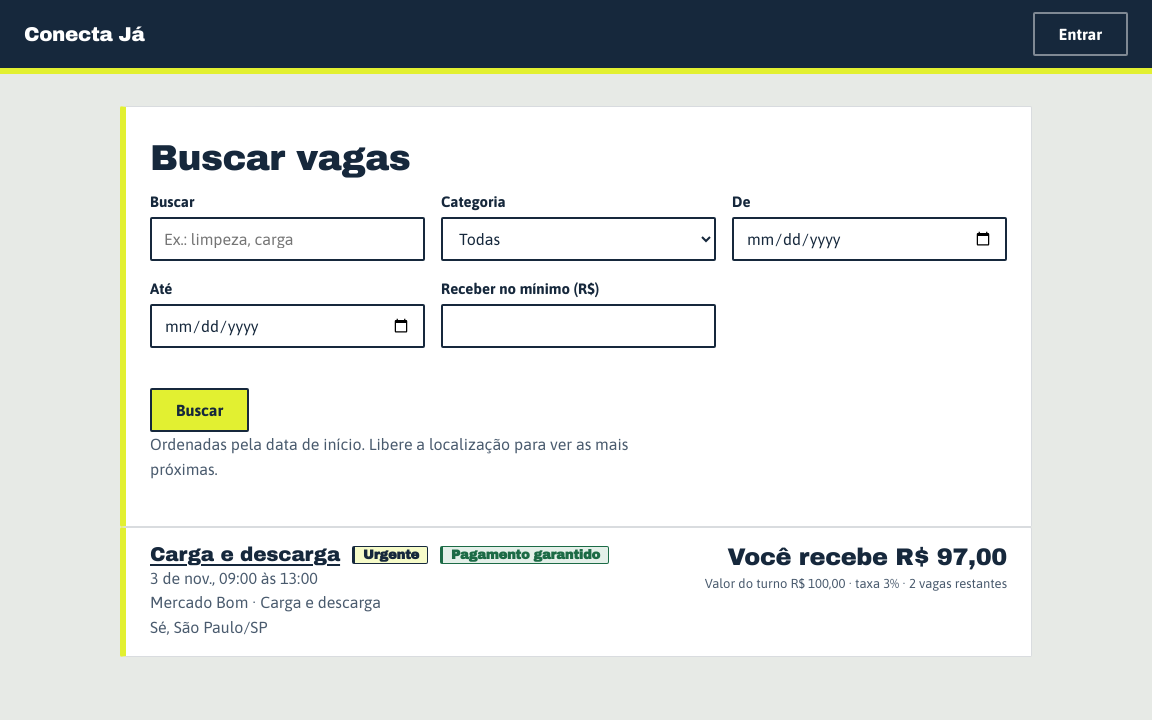
Test case: Buscar vagas (US12) › combina busca e filtros na consulta e limpa com um clique
Expected: the text "Você recebe R$ 97,00" is shown, [705,544,1007,570]
Type "carga" into the search field labelled "Buscar" at (288, 239), box [150,217,425,261]
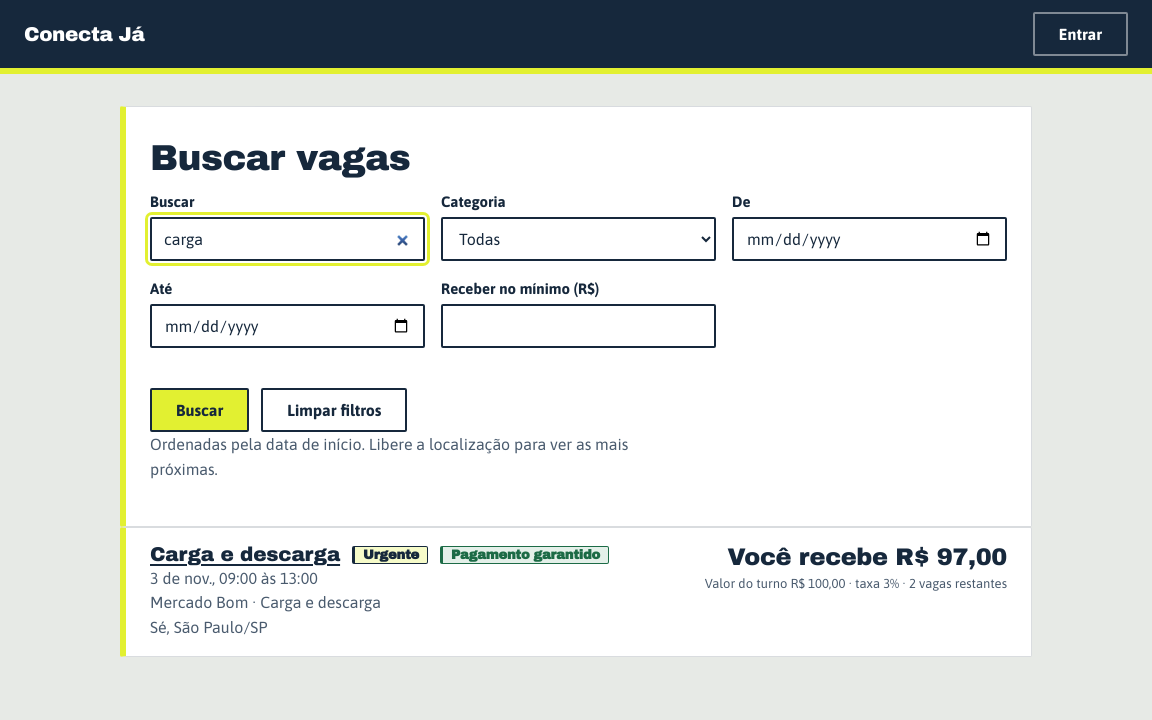
Select "Limpeza" in the dropdown labelled "Categoria" at (578, 239), box [441,217,716,261]
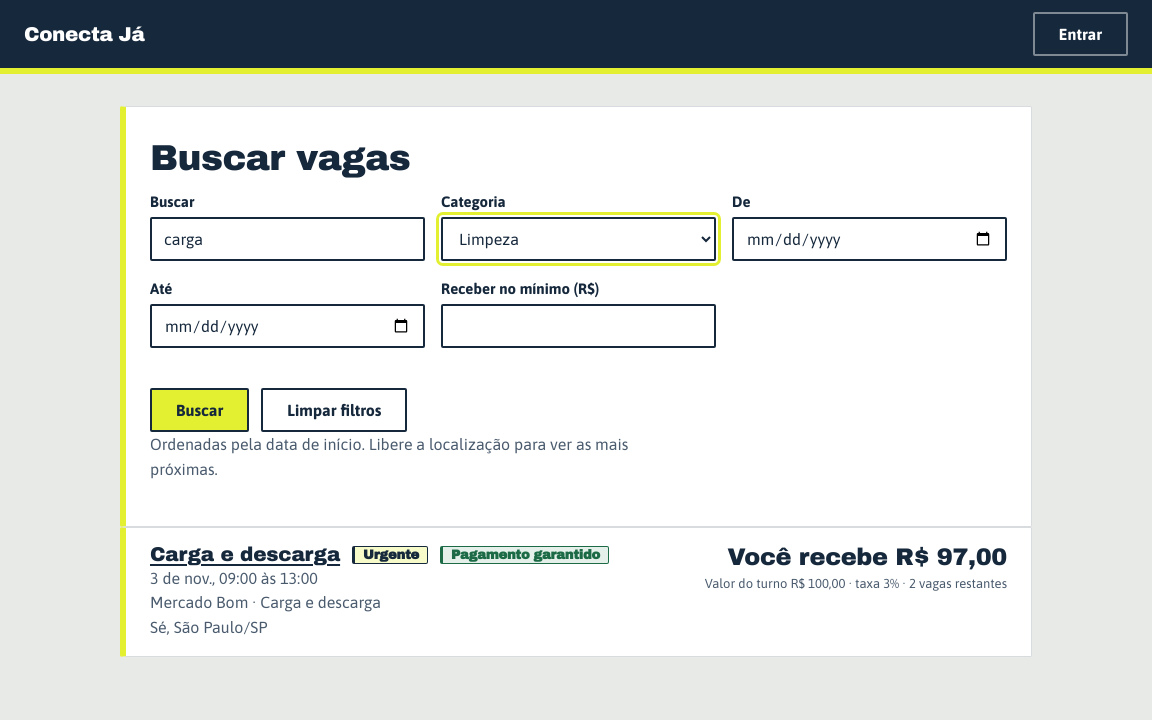
Type "90" into the number field labelled "Receber no mínimo (R$)" at (578, 326), box [441,304,716,348]
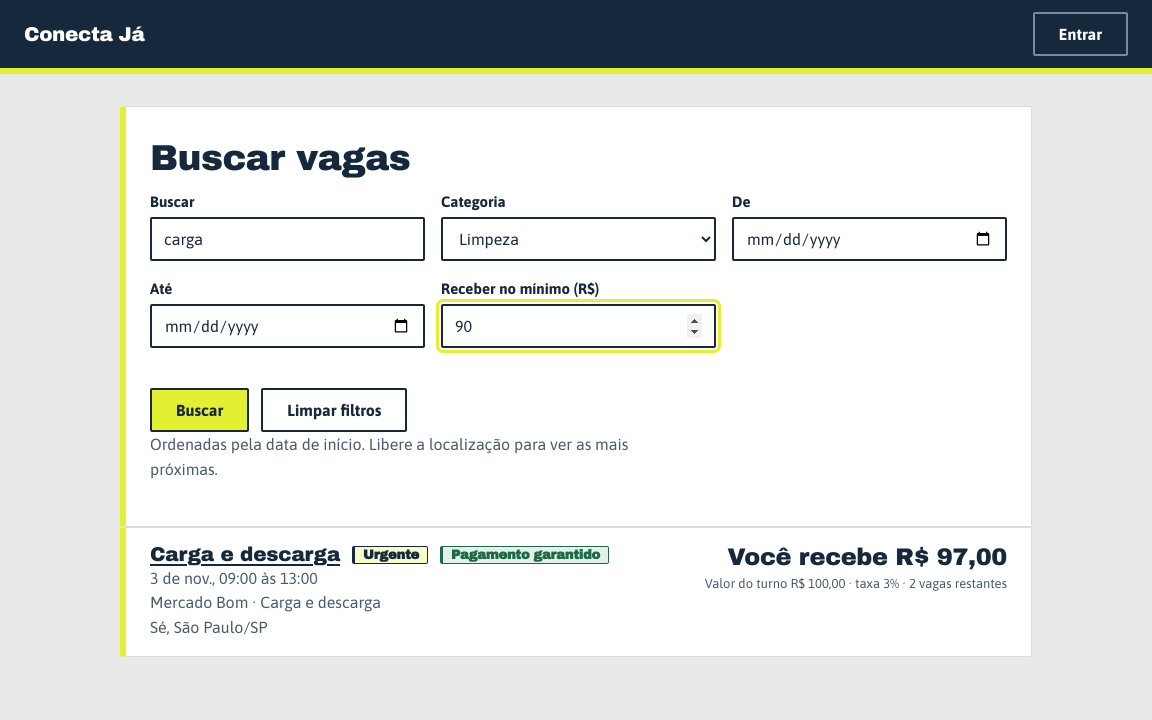
Click the button "Buscar" at (200, 410), box [150,388,249,432]
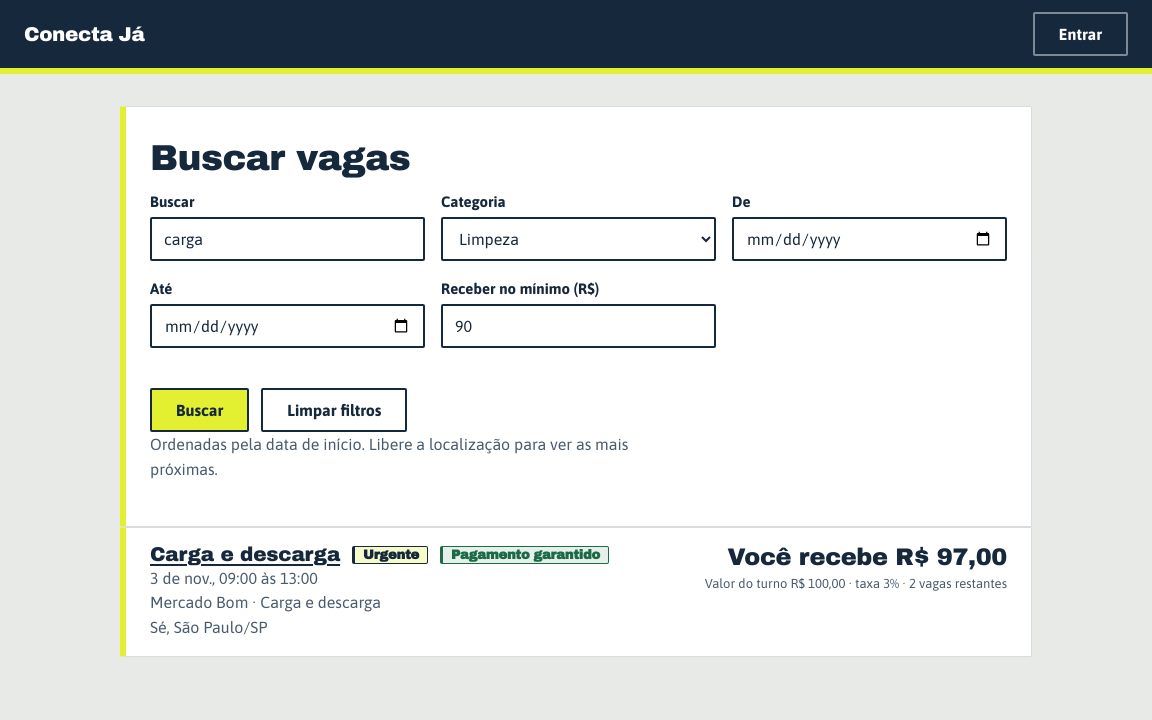
Click the button "Limpar filtros" at (334, 410), box [261,388,408,432]
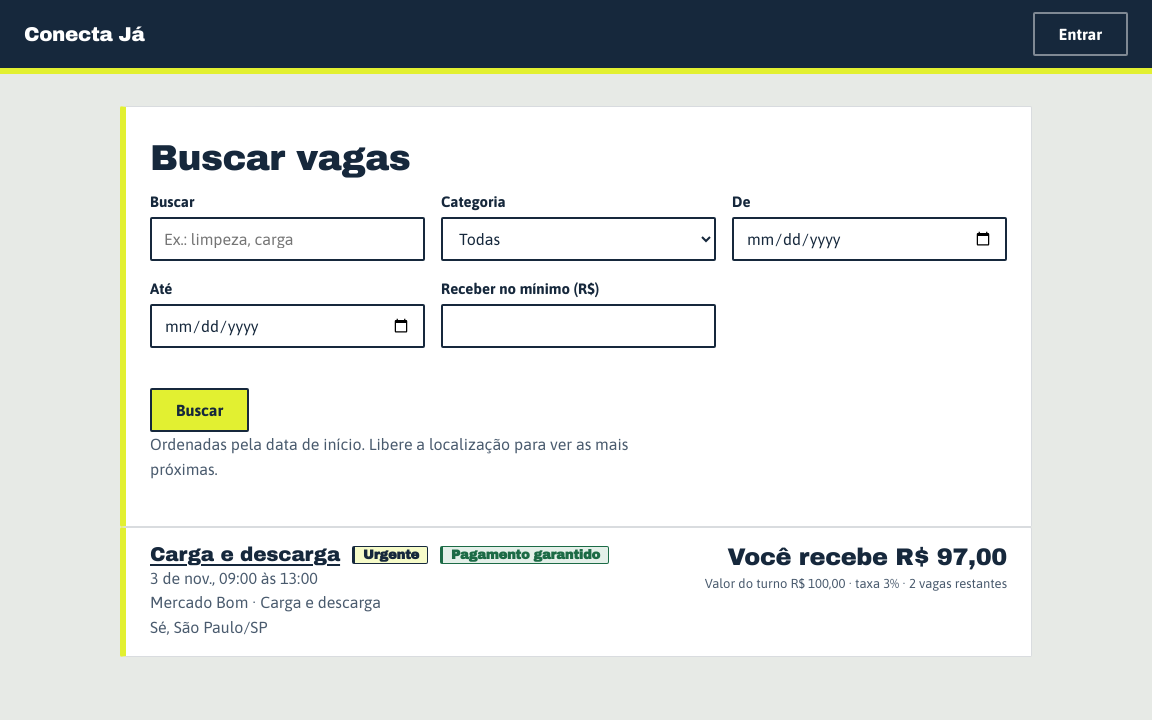
Expected: the search field labelled "Buscar" is empty, [150,217,425,261]
